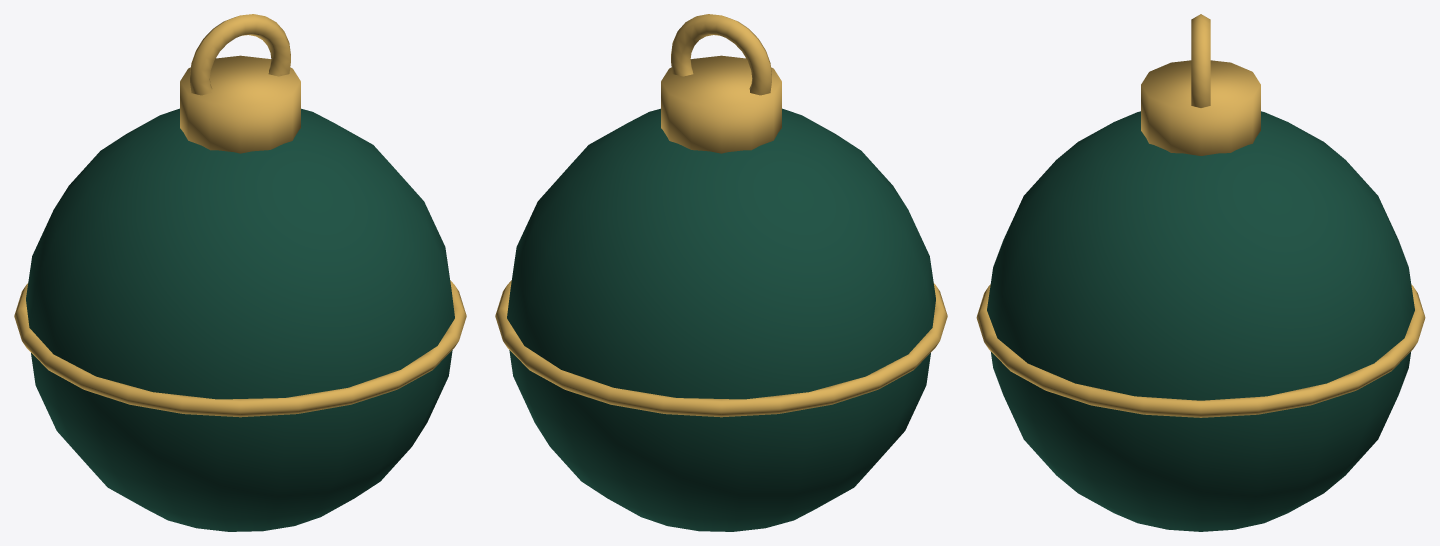
The model's file is ball-green.glb.
The picture shows the model from 3 angles, left to right: view 1: azimuth 30°, elevation 25°; view 2: azimuth 150°, elevation 25°; view 3: azimuth 270°, elevation 25°; orthographic projection.
Parts seen in each view (by area): view 1: Tint, Cap, Equator ribbon, Hanging loop; view 2: Tint, Cap, Equator ribbon, Hanging loop; view 3: Tint, Cap, Equator ribbon, Hanging loop.
Part boxes in pixels (<box>): Tint: <box>26,108,454,531</box>; Cap: <box>180,55,300,153</box>; Equator ribbon: <box>14,280,466,417</box>; Hanging loop: <box>190,14,290,95</box>; Tint: <box>507,108,935,531</box>; Cap: <box>661,55,781,153</box>; Equator ribbon: <box>495,280,947,417</box>; Hanging loop: <box>671,14,771,95</box>; Tint: <box>987,111,1414,531</box>; Cap: <box>1141,60,1260,155</box>; Equator ribbon: <box>976,284,1425,417</box>; Hanging loop: <box>1191,14,1210,107</box>.
Bounding box in the file's own units: 0.24 × 0.291 × 0.24.
